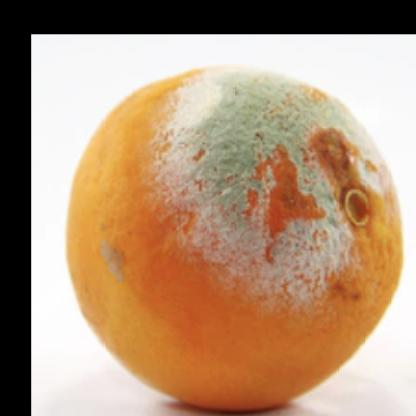rotten: (67, 67, 400, 416)
